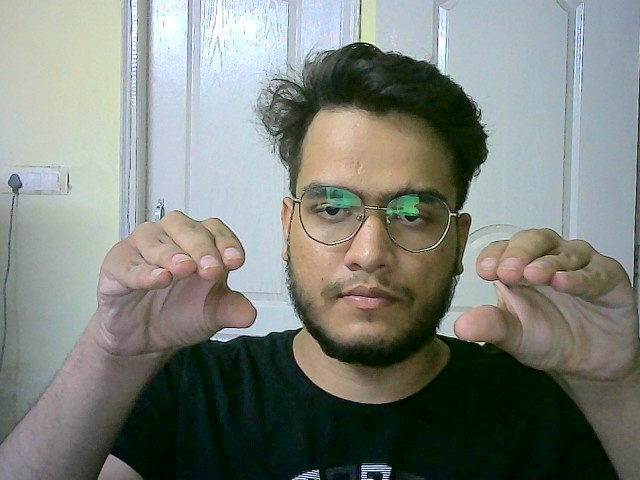No: (453, 224, 640, 391), (80, 205, 265, 357)
